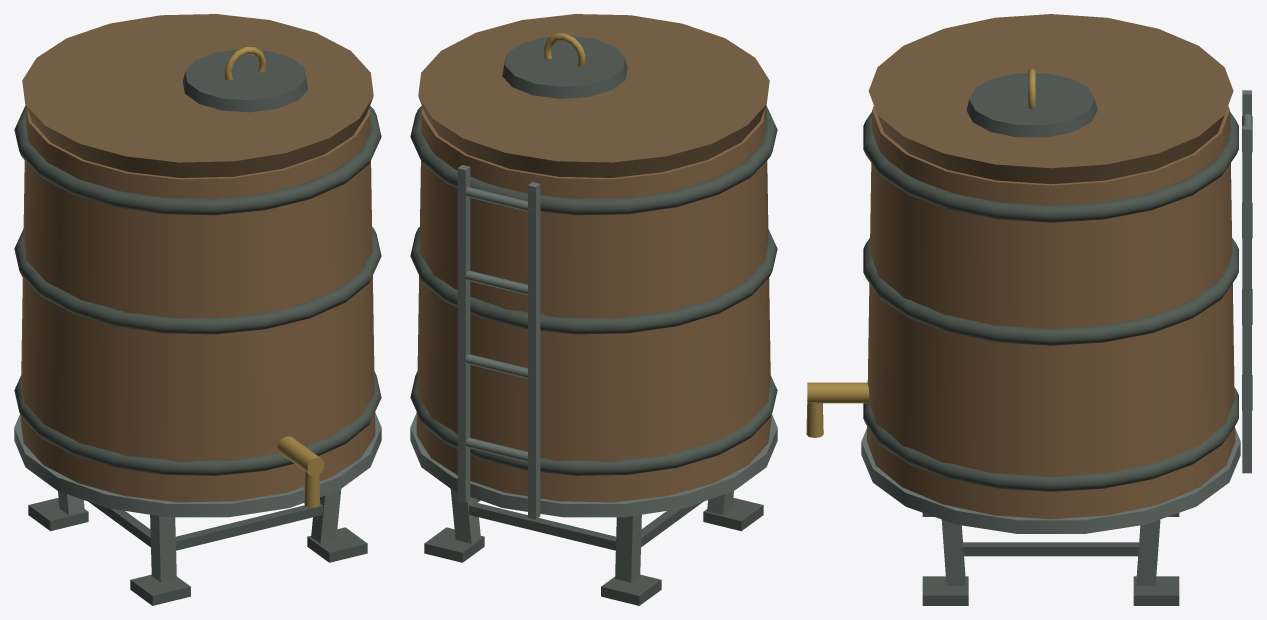
Rendered from farm-water-butt.fixed.m1.glb.
The picture shows the model from 3 angles, left to right: view 1: azimuth 30°, elevation 25°; view 2: azimuth 150°, elevation 25°; view 3: azimuth 270°, elevation 25°; orthographic projection. The views are drawn at different scales.
Parts seen in each view (by area): view 1: waterButtStaves, waterButtHardware; view 2: waterButtHardware, waterButtStaves; view 3: waterButtStaves, waterButtHardware.
Boxes of the visible parts, x1=… form: waterButtStaves: x1=20, y1=106, x2=375, y2=502; waterButtHardware: x1=14, y1=14, x2=381, y2=605; waterButtHardware: x1=410, y1=14, x2=777, y2=605; waterButtStaves: x1=416, y1=106, x2=771, y2=502; waterButtStaves: x1=867, y1=106, x2=1235, y2=519; waterButtHardware: x1=806, y1=14, x2=1252, y2=605.
Size of the model in its own units: 1.6 by 2.33 by 1.87.
